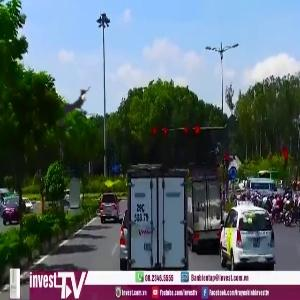drone: (38, 71, 117, 150)
